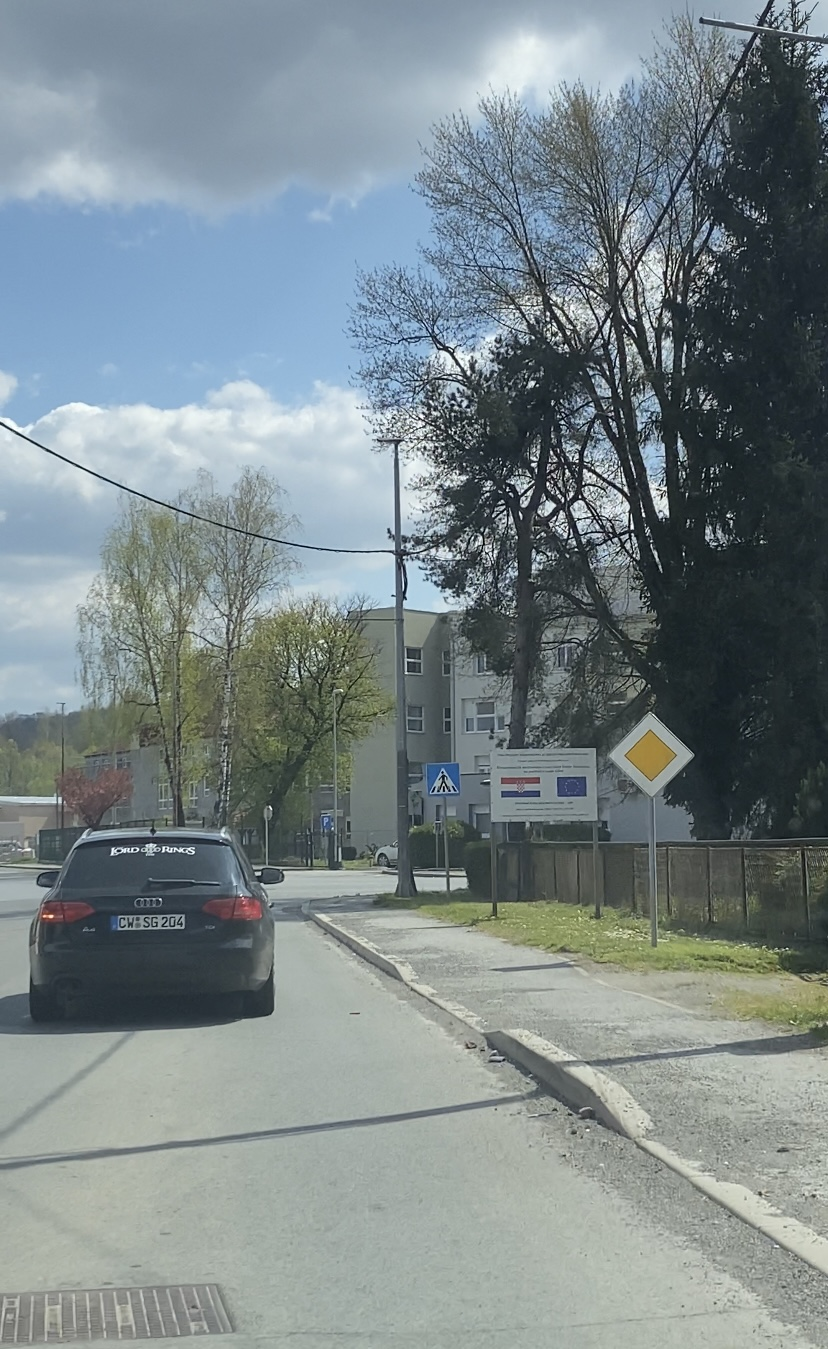Cesta s prednošću prolaska: (607, 711, 695, 798)
Pješački prijelaz: (427, 762, 460, 796)
